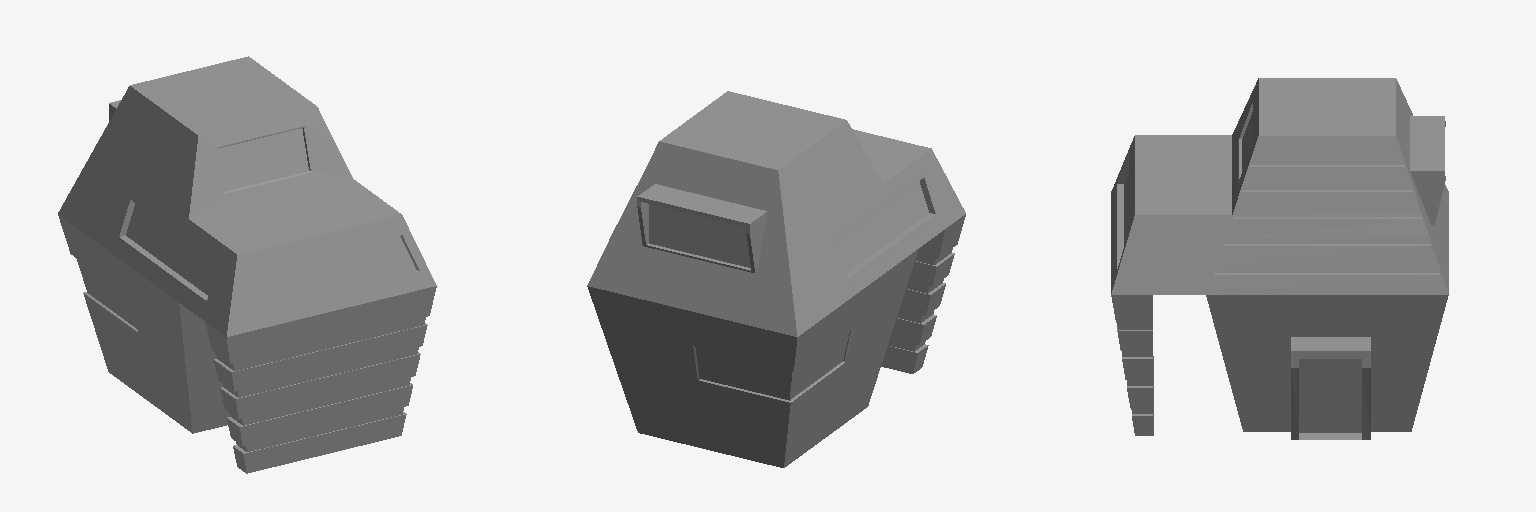
File: house.obj
3 renders of one model, left to right at view 1: azimuth 30°, elevation 25°; view 2: azimuth 150°, elevation 25°; view 3: azimuth 270°, elevation 25°, orthographic.
Visible parts, largest first — view 1: Cube; view 2: Cube; view 3: Cube.
Part boxes in pixels (x1,y1,x2,y2): Cube: (58, 56, 436, 473); Cube: (587, 91, 965, 467); Cube: (1111, 78, 1448, 439).
Bounding box in the file's own units: 58.17 × 70.65 × 74.65.